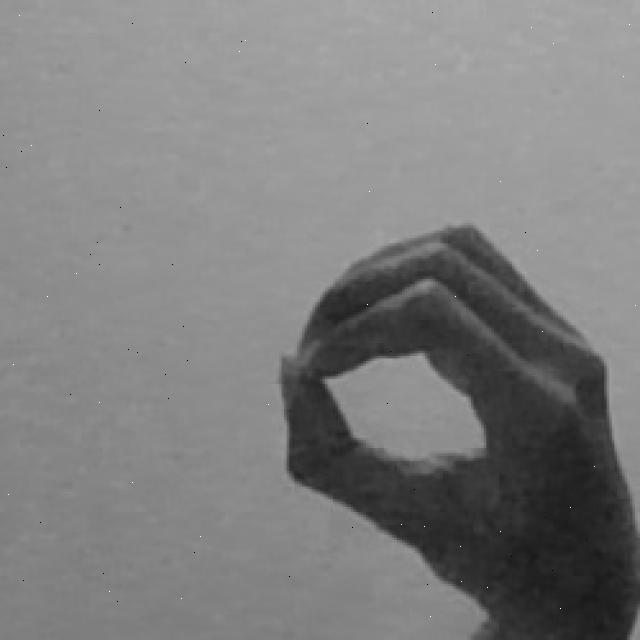O: (273, 216, 640, 640)
